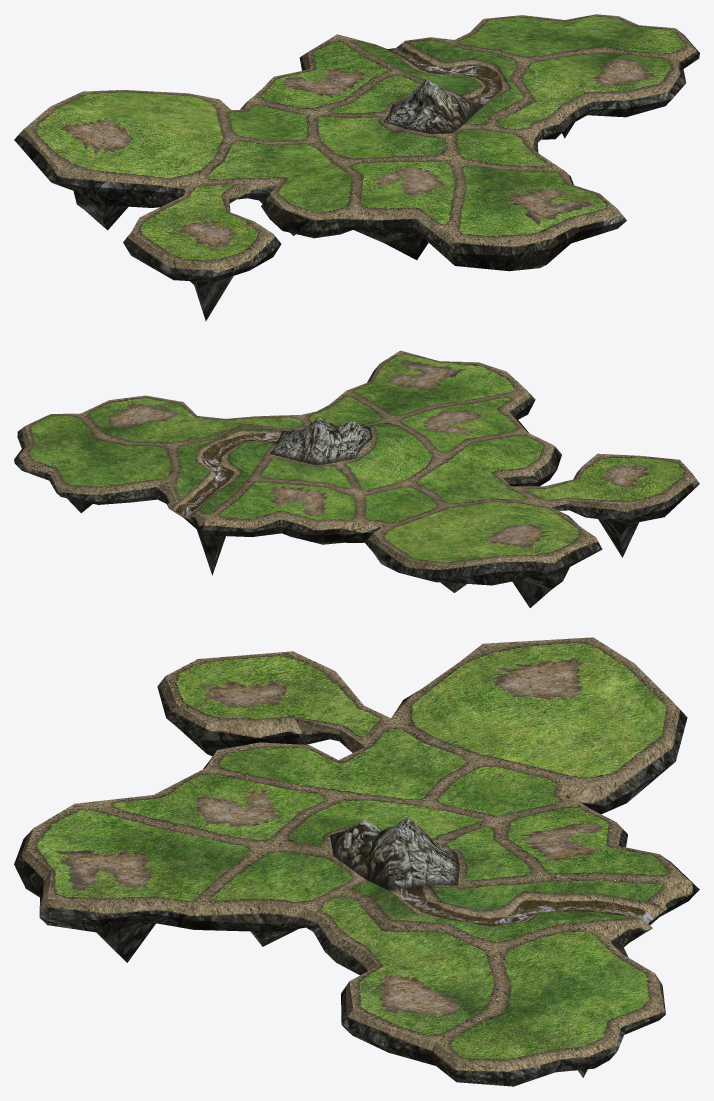
Rendered from island.FBX.
The picture shows the model from 3 angles, top to bottom: view 1: azimuth 30°, elevation 25°; view 2: azimuth 150°, elevation 25°; view 3: azimuth 270°, elevation 25°; orthographic projection. The views are drawn at different scales.
Parts seen in each view (by area): view 1: area12, area08, area02, area13, area10, area09, area01, area03, area04, area07, area06, static01 (+2 smaller); view 2: area12, area01, area13, area04, area03, area10, area08, area02, area09, area07, static01, area11 (+2 smaller); view 3: area12, area01, area08, area02, area13, area03, area10, area09, area06, area04, static01, area11 (+2 smaller).
Part boxes in pixels (x1,y1,x2,y2): area12: (14,90,230,230); area08: (451,159,626,271); area02: (487,50,686,142); area13: (123,180,281,321); area10: (192,137,358,238); area09: (336,158,461,265); area01: (432,14,699,68); area03: (338,34,529,127); area04: (248,34,394,113); area07: (312,114,453,161); area06: (452,126,563,170); static01: (384,78,484,134); area12: (365,500,602,607); area01: (14,413,176,513); area13: (510,453,699,557); area04: (202,479,361,544); area03: (164,425,284,575); area10: (410,432,561,506); area08: (347,350,526,420); area02: (81,395,308,444); area09: (391,390,535,460); area07: (336,420,442,494); static01: (270,417,372,544); area11: (360,483,445,542); area12: (391,637,687,814); area01: (429,921,665,1086); area08: (14,804,271,962); area02: (298,889,503,1065); area13: (157,651,390,756); area03: (343,876,699,950); area10: (203,718,478,803); area09: (75,768,348,845); area06: (193,845,363,946); area04: (498,801,697,887); static01: (329,817,459,890); area11: (426,759,604,819).
Size of the model in its own units: 3567 by 789 by 2555.
